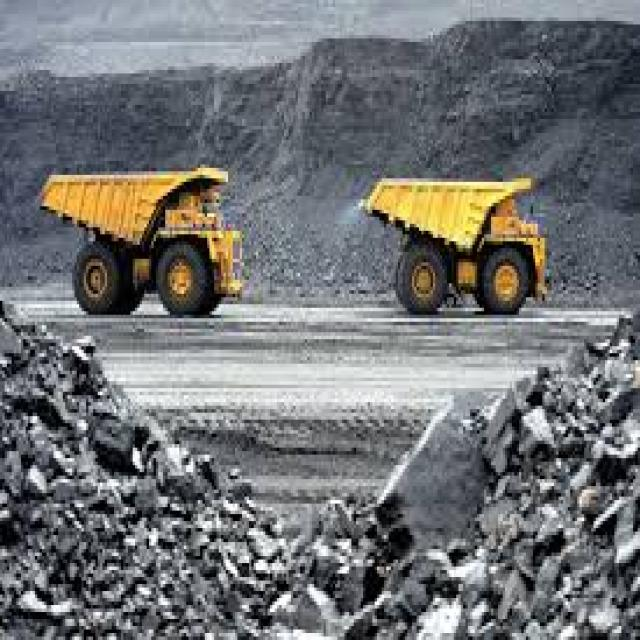dump_truck: (32, 147, 254, 315), (354, 147, 556, 325)
